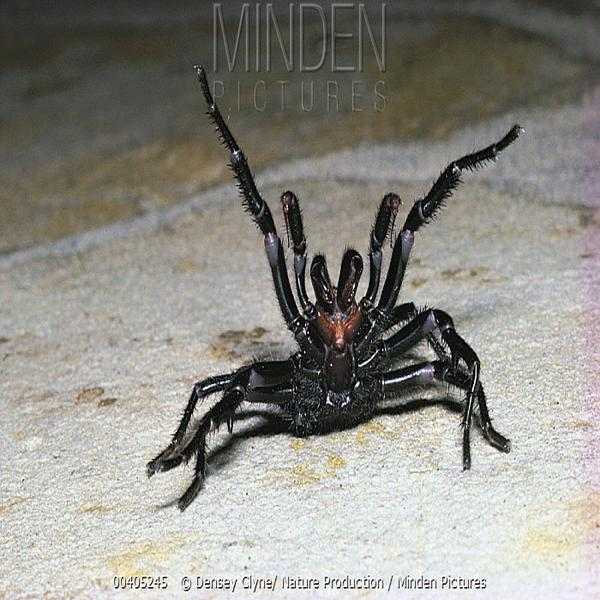Sydney_Funnel_Web_Spider: (145, 65, 527, 514)
